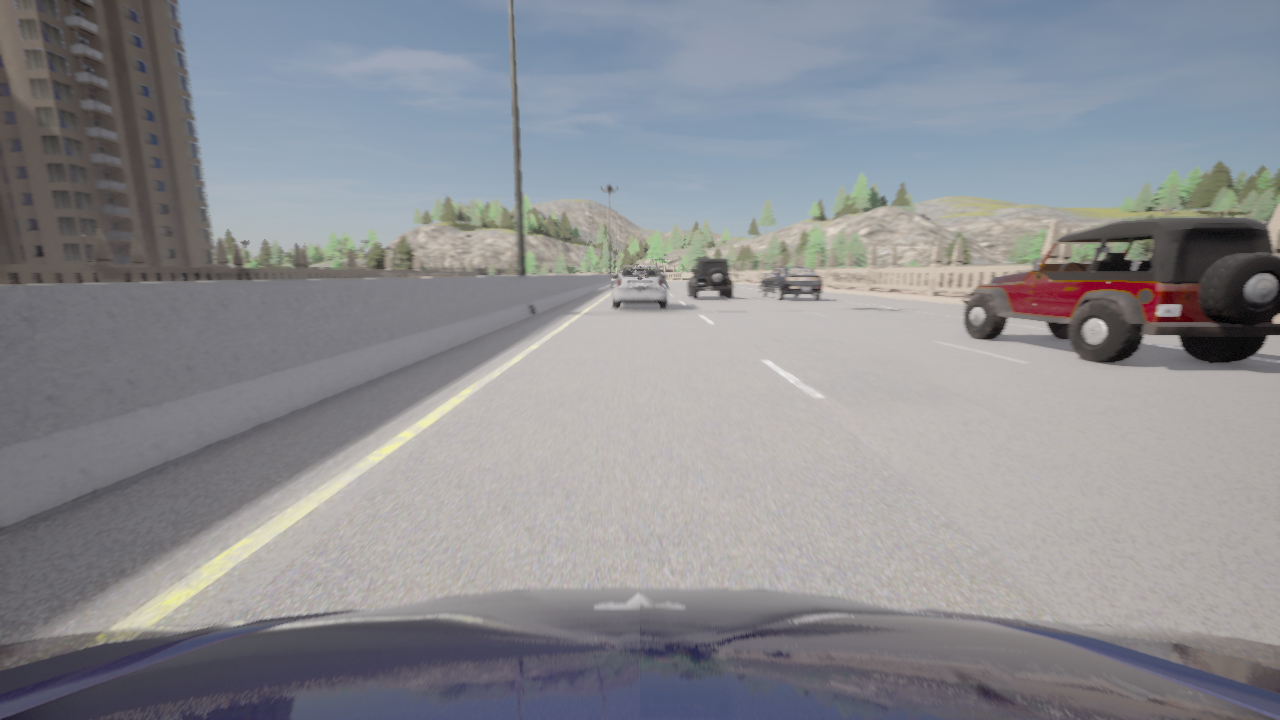cyclist: (0, 588, 1279, 719), (962, 217, 1279, 362), (612, 265, 667, 309), (760, 266, 823, 300), (688, 258, 733, 299)
